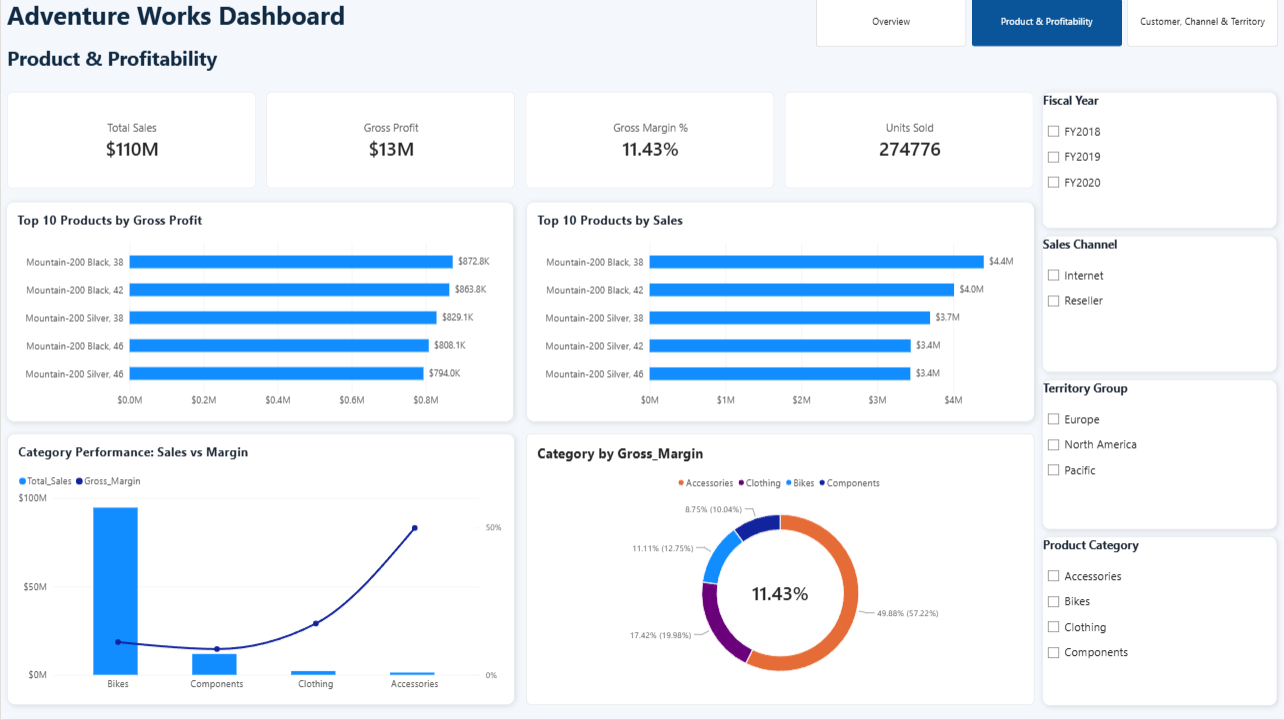

What the dashboard file says about the page in this screenshot:
{"tool":"powerbi","page":{"name":"Product & Profitability","canvas":[1920,1080],"ordinal":1},"visuals":[{"type":"cardVisual","fields":{"Data":["public fact_sales.Total_Sales","public fact_sales.Gross_Profit","public fact_sales.Gross_Margin","public fact_sales.Units_Sold"]},"box":[9,141,1537,145],"z":0},{"type":"lineClusteredColumnComboChart","title":"Category Performance: Sales vs Margin","fields":{"Category":["public dim_product.category"],"Y":["public fact_sales.Total_Sales"],"Y2":["public fact_sales.Gross_Margin"]},"box":[9.1,653.1,760.4,406.7],"z":1000},{"type":"clusteredBarChart","title":"Top 10 Products by Sales","fields":{"Category":["public dim_product.product"],"Y":["public fact_sales.Total_Sales"]},"box":[785,305,761,330],"z":2000},{"type":"clusteredBarChart","title":"Top 10 Products by Gross Profit","fields":{"Category":["public dim_product.product"],"Y":["public fact_sales.Gross_Profit"]},"box":[7.6,305.4,760.4,329.6],"z":3000},{"type":"textbox","box":[9,0,620,70],"z":4000},{"type":"textbox","box":[9,70,760,62],"z":5000},{"type":"slicer","title":"Fiscal Year","fields":{"Values":["public dim_date.fiscal_year"]},"box":[1558,141,352,205],"z":6000},{"type":"slicer","title":"Sales Channel","fields":{"Values":["public dim_sales_order.channel"]},"box":[1558,356,352,205],"z":7000},{"type":"slicer","title":"Territory Group","fields":{"Values":["public dim_sales_territory.territory_group"]},"box":[1558,571,352,225],"z":8000},{"type":"slicer","title":"Product Category","fields":{"Values":["public dim_product.category"]},"box":[1558,806,352,254],"z":9000},{"type":"pageNavigator","box":[1220,0,691,73],"z":10000},{"type":"donutChart","title":"Category by Gross_Margin","fields":{"Category":["public dim_product.category"],"Y":["public fact_sales.Gross_Margin"]},"box":[785,653,761,407],"z":11000}]}

Visuals, with their boxes in screenshot pixels (x1, y1, x2, y2), scaled from the page's 1920x1080 canvas onto the 1284x720 screenshot:
cardVisual - public fact_sales.Total_Sales x public fact_sales.Gross_Profit: rect(6, 94, 1034, 191)
"Category Performance: Sales vs Margin" lineClusteredColumnComboChart: rect(6, 435, 515, 707)
"Top 10 Products by Sales" clusteredBarChart: rect(525, 203, 1034, 423)
"Top 10 Products by Gross Profit" clusteredBarChart: rect(5, 204, 514, 423)
textbox: rect(6, 0, 421, 47)
textbox: rect(6, 47, 514, 88)
"Fiscal Year" slicer: rect(1042, 94, 1277, 231)
"Sales Channel" slicer: rect(1042, 237, 1277, 374)
"Territory Group" slicer: rect(1042, 381, 1277, 531)
"Product Category" slicer: rect(1042, 537, 1277, 707)
pageNavigator: rect(816, 0, 1278, 49)
"Category by Gross_Margin" donutChart: rect(525, 435, 1034, 707)
